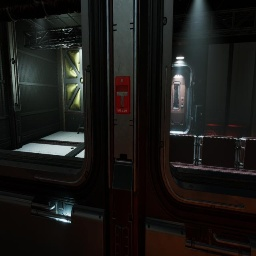FireAlarm ,: (115, 76, 130, 114)
